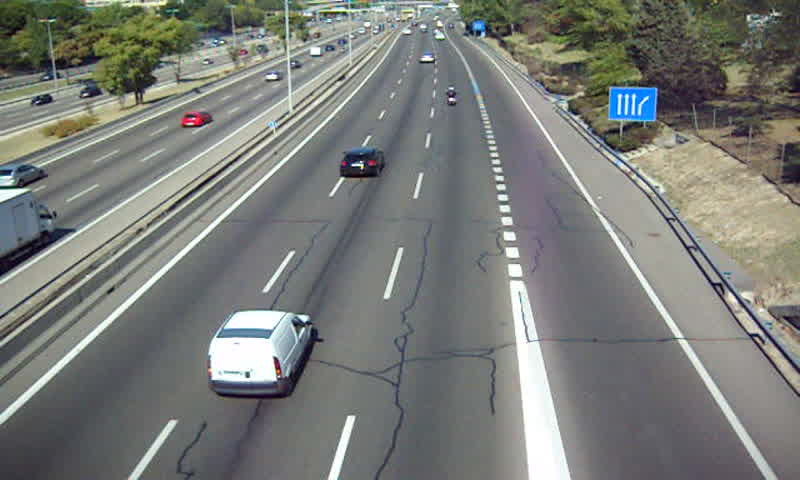car: (338, 148, 385, 178), (418, 54, 435, 66)
motorcycle: (445, 86, 457, 106)
van: (206, 310, 318, 395)
